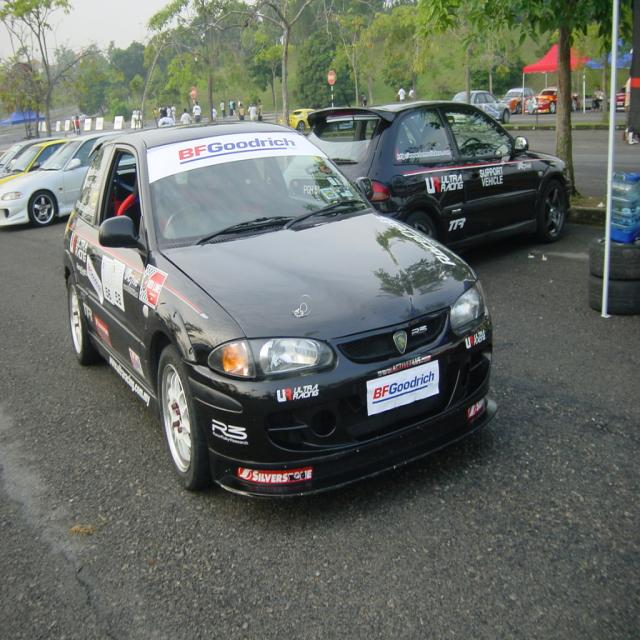car: (58, 120, 503, 510)
